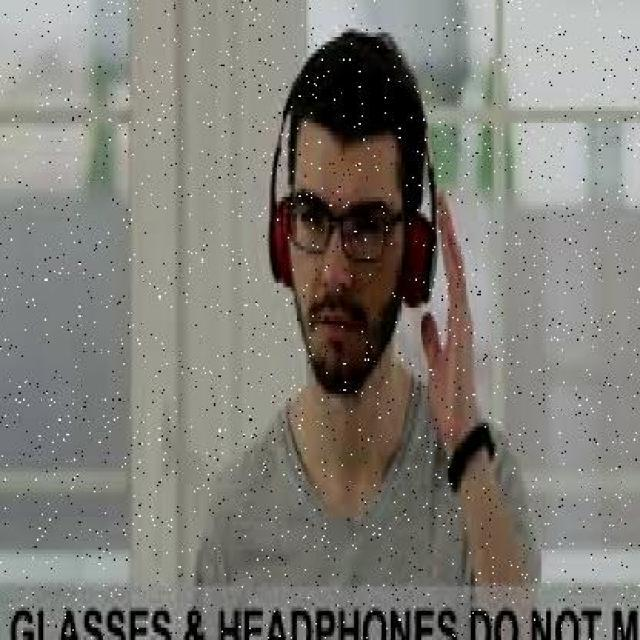mask: (284, 184, 408, 276)
